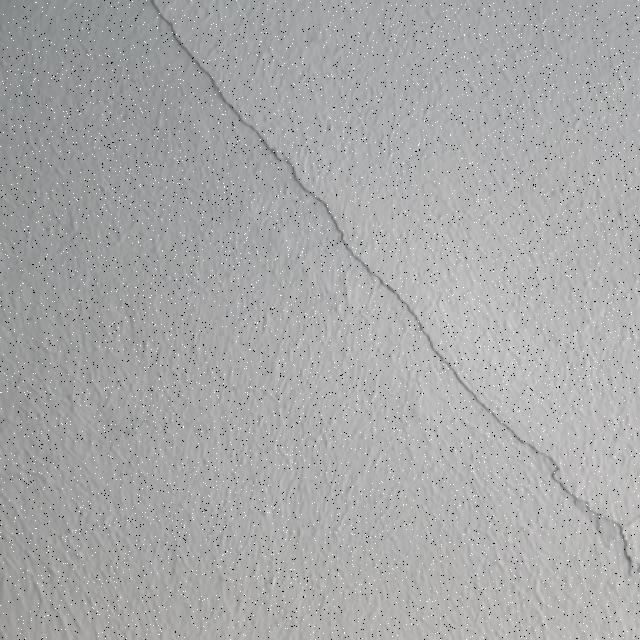minor crack: (414, 326, 537, 451)
moderate crack: (142, 9, 306, 173), (218, 142, 372, 310), (548, 460, 620, 564), (614, 515, 635, 564)
severe crack: (532, 442, 571, 487)
